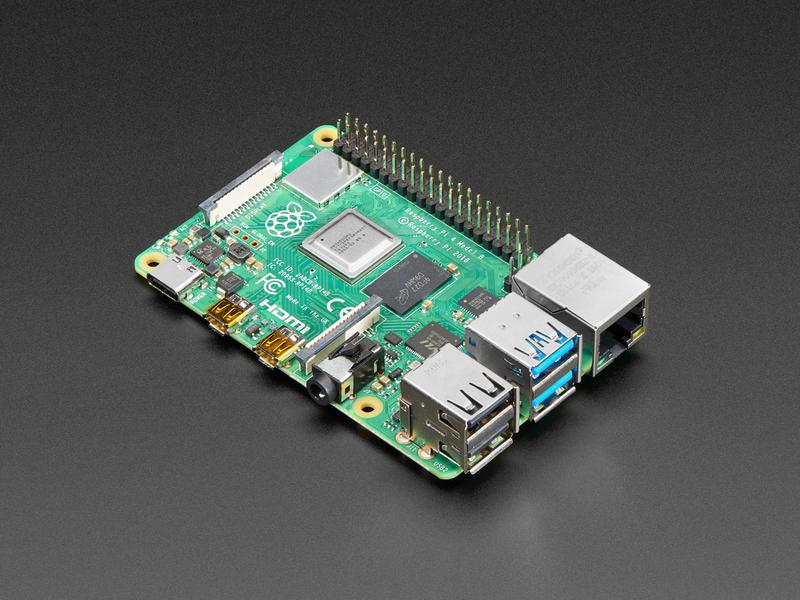Raspberry_Pi_3: (118, 116, 658, 492)
